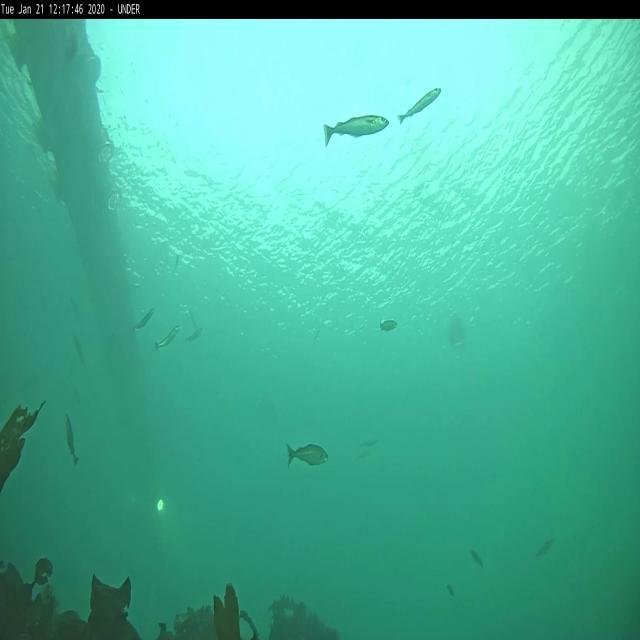fish: (322, 114, 389, 144), (398, 86, 442, 124), (285, 441, 331, 469), (64, 411, 80, 467), (154, 326, 178, 350), (132, 308, 154, 333), (72, 334, 86, 366), (536, 536, 554, 558), (468, 548, 484, 570), (184, 326, 203, 344), (68, 296, 80, 320), (378, 319, 399, 332), (360, 436, 378, 446), (353, 450, 371, 460), (312, 327, 320, 344), (446, 582, 454, 598), (174, 256, 180, 275)
